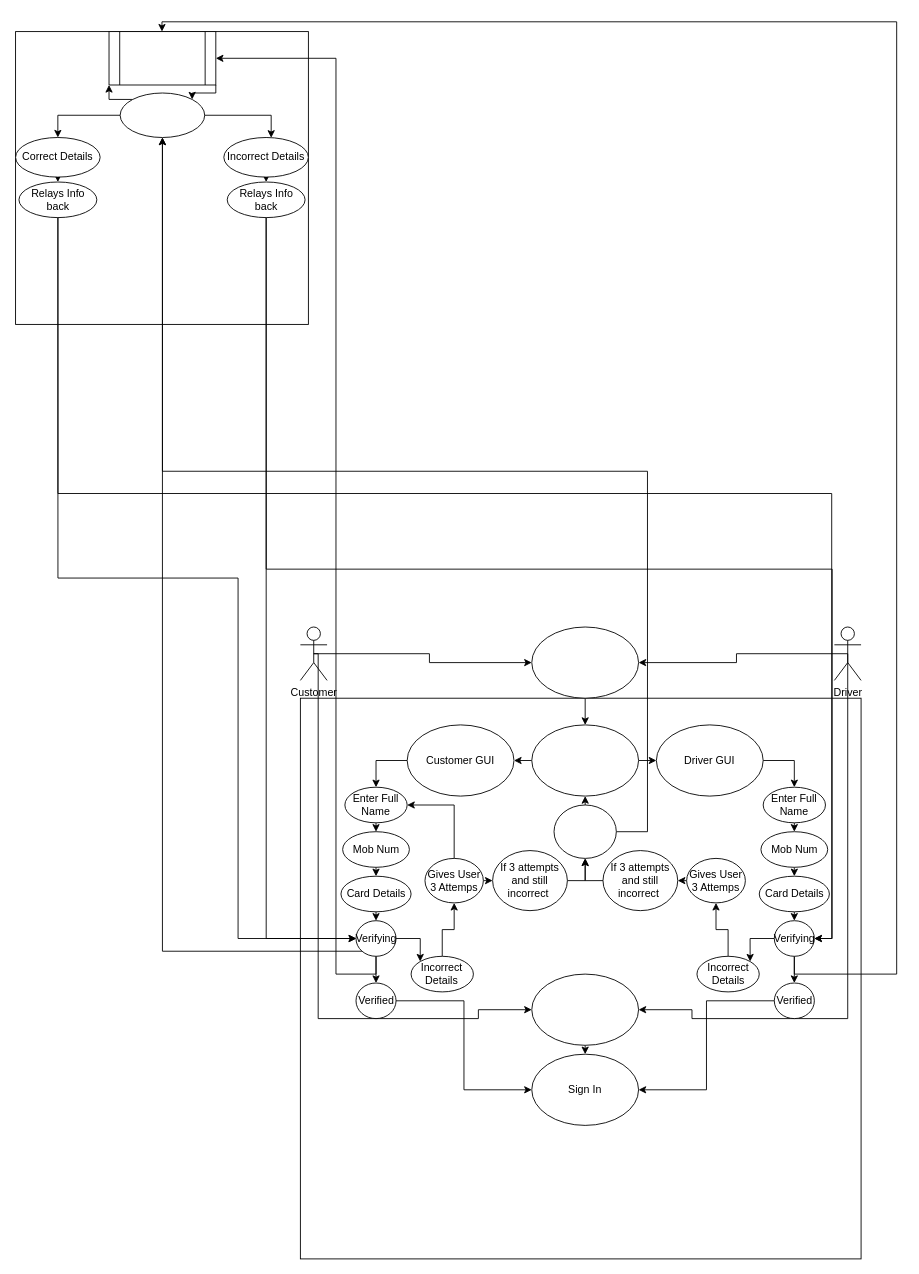
The diagram is 919 pixels wide and 1274 high, and some of its shapes have lost their labels. Here are the shapes that lost their labels. From the top down, the centre of each, then its label:
At (162,58): "Bank".
At (162,115): "Receives Details".
At (585,662): "App".
At (585,760): "Sign Up".
At (584,831): "Records the device".
At (585,1009): "Steps Already Done".
